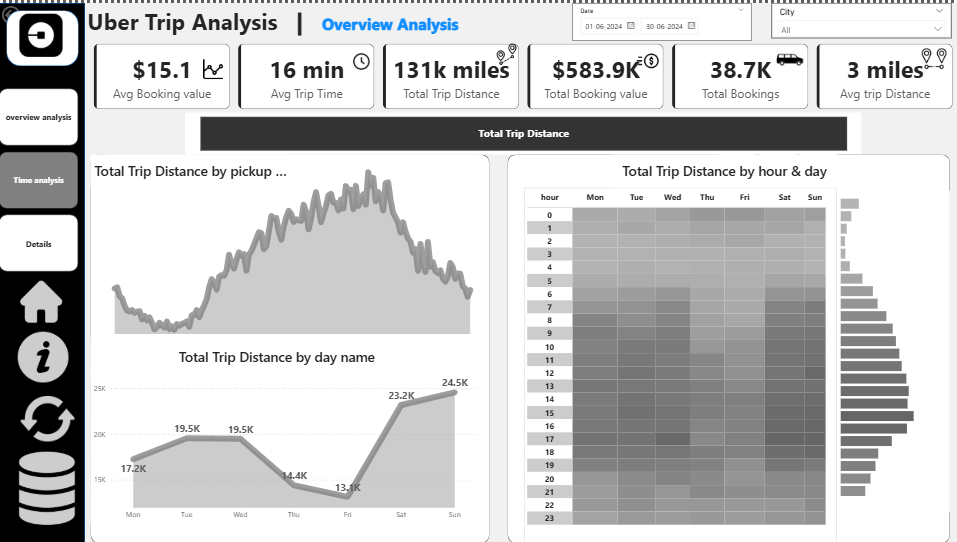

The dashboard page shown, as its layout file describes it:
{"tool":"powerbi","page":{"name":"Time analysis","canvas":[1600,900],"ordinal":1},"visuals":[{"type":"shape","box":[0,0,143.3,900],"z":0},{"type":"textbox","box":[142.4,0,978.8,63.6],"z":1000},{"type":"cardVisual","fields":{"Data":["Trip Details.Avg Booking Amount","Trip Details.Avg Trip Time","Trip Details.Total Trip Distance","Trip Details.Total Booking Amount","Trip Details.Total Bookings","Trip Details.Avg trip Distance"]},"box":[153,63.6,1447,119.7],"z":2000},{"type":"image","box":[1057.6,66.7,47,57.6],"z":3000},{"type":"image","box":[818.2,63.6,59.1,45.5],"z":4000},{"type":"image","box":[584.8,51.5,37.9,89.4],"z":5000},{"type":"image","box":[333.3,78.8,48.5,60.6],"z":6000},{"type":"shape","box":[152.5,252.5,665,647.5],"z":7000},{"type":"image","box":[1287.9,65.2,60.6,59.1],"z":8000},{"type":"image","box":[1533.3,59.1,51.5,65.2],"z":9000},{"type":"slicer","fields":{"Values":["Dynamic Measures.Dynamic Measures"]},"box":[310,182.5,1127.5,70],"z":10000},{"type":"actionButton","box":[0,0,100,40],"z":11000},{"type":"slicer","fields":{"Values":["Calendar Table.Date"]},"box":[954.3,0,300,63],"z":12000},{"type":"slicer","fields":{"Values":["Location Table.City"]},"box":[1287,0,300,58.7],"z":13000},{"type":"areaChart","fields":{"Y":["Trip Details.Total Trip Distance Measure"],"Category":["Trip Details.pickup hour(HH MM SS) (bins) 2"]},"box":[177.5,252.5,622.5,305],"z":14000},{"type":"card","fields":{"Values":["Trip Details.Title for by pickup time"]},"box":[152.5,252.5,332.5,55],"z":15000},{"type":"areaChart","fields":{"Y":["Trip Details.Total Trip Distance Measure"],"Category":["Calendar Table.day name"]},"box":[152.5,612.5,647.5,257.5],"z":16000},{"type":"card","fields":{"Values":["Trip Details.Title for by day name"]},"box":[152.5,557.5,620,65],"z":17000},{"type":"shape","box":[847.5,252.5,737.5,647.5],"z":18000},{"type":"pivotTable","fields":{"Values":["Trip Details.Total Trip Distance Measure"],"Rows":["Trip Details.pickup hour"],"Columns":["Calendar Table.day name"]},"box":[875,307.5,522.5,592.5],"z":19000},{"type":"barChart","fields":{"Y":["Trip Details.Total Trip Distance Measure"],"Category":["Trip Details.pickup hour"]},"box":[1397.5,312.5,187.5,535],"z":20000},{"type":"card","fields":{"Values":["Trip Details.Title for by hour & day"]},"box":[1020,252.5,377.5,55],"z":21000},{"type":"shape","box":[12.5,12.5,120,92.5],"z":22000},{"type":"image","box":[0,12.5,140,82.5],"z":23000},{"type":"pageNavigator","box":[0,142.5,132.5,307.5],"z":24000},{"type":"image","box":[20,457.5,100,80],"z":24001},{"type":"image","box":[2.5,542.5,142.5,95],"z":24002},{"type":"image","box":[10,642.5,142.5,100],"z":24003},{"type":"image","box":[7.5,742.5,145,132.5],"z":24004}]}

Visuals, with their boxes on the page's 1600x900 design canvas (x1, y1, x2, y2). These are canvas units, not pixel positions in the 957x542 screenshot, which may show the page scaled, cropped or inside an application window:
shape: left=0, top=0, right=143, bottom=900
textbox: left=142, top=0, right=1121, bottom=64
cardVisual - Trip Details.Avg Booking Amount x Trip Details.Avg Trip Time: left=153, top=64, right=1600, bottom=183
image: left=1058, top=67, right=1105, bottom=124
image: left=818, top=64, right=877, bottom=109
image: left=585, top=52, right=623, bottom=141
image: left=333, top=79, right=382, bottom=139
shape: left=152, top=252, right=818, bottom=900
image: left=1288, top=65, right=1348, bottom=124
image: left=1533, top=59, right=1585, bottom=124
slicer - Dynamic Measures.Dynamic Measures: left=310, top=182, right=1438, bottom=252
actionButton: left=0, top=0, right=100, bottom=40
slicer - Calendar Table.Date: left=954, top=0, right=1254, bottom=63
slicer - Location Table.City: left=1287, top=0, right=1587, bottom=59
areaChart - Trip Details.Total Trip Distance Measure x Trip Details.pickup hour(HH MM SS) (bins) 2: left=178, top=252, right=800, bottom=558
card - Trip Details.Title for by pickup time: left=152, top=252, right=485, bottom=308
areaChart - Trip Details.Total Trip Distance Measure x Calendar Table.day name: left=152, top=612, right=800, bottom=870
card - Trip Details.Title for by day name: left=152, top=558, right=772, bottom=622
shape: left=848, top=252, right=1585, bottom=900
pivotTable - Trip Details.Total Trip Distance Measure x Trip Details.pickup hour: left=875, top=308, right=1398, bottom=900
barChart - Trip Details.Total Trip Distance Measure x Trip Details.pickup hour: left=1398, top=312, right=1585, bottom=848
card - Trip Details.Title for by hour & day: left=1020, top=252, right=1398, bottom=308
shape: left=12, top=12, right=132, bottom=105
image: left=0, top=12, right=140, bottom=95
pageNavigator: left=0, top=142, right=132, bottom=450
image: left=20, top=458, right=120, bottom=538
image: left=2, top=542, right=145, bottom=638
image: left=10, top=642, right=152, bottom=742
image: left=8, top=742, right=152, bottom=875
